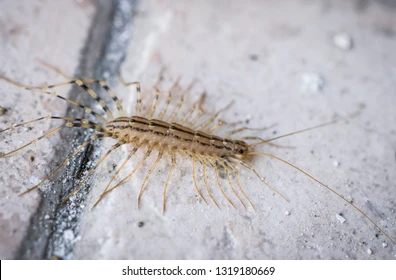centipede: (16, 53, 350, 226)
